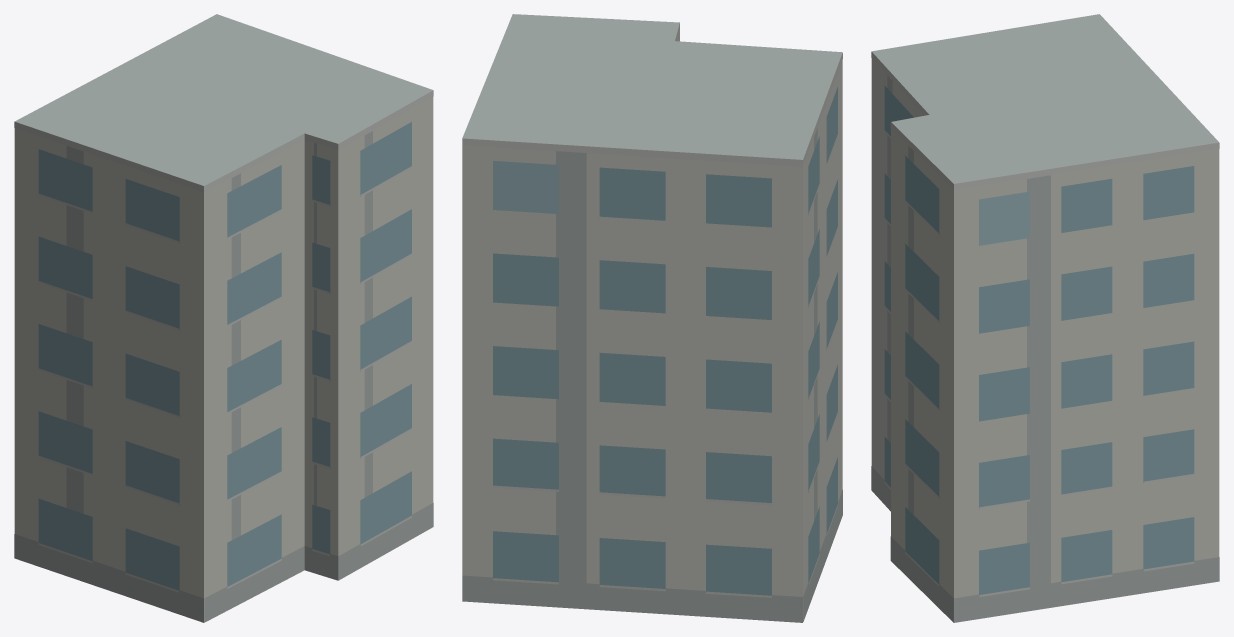
The model's file is survey-upis-33025924.glb.
3 renders of one model, left to right at view 1: azimuth 30°, elevation 25°; view 2: azimuth 150°, elevation 25°; view 3: azimuth 270°, elevation 25°, orthographic. The views are drawn at different scales.
Visible parts, largest first — view 1: survey-upis-33025924.tmp; view 2: survey-upis-33025924.tmp; view 3: survey-upis-33025924.tmp.
Part boxes in pixels (x1,y1,x2,y2): survey-upis-33025924.tmp: (14, 14, 433, 622); survey-upis-33025924.tmp: (462, 14, 842, 622); survey-upis-33025924.tmp: (871, 14, 1219, 622).
Bounding box in the file's own units: 13.83 × 16.65 × 11.97.
